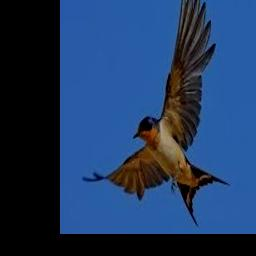Swallow: (83, 0, 231, 228)
